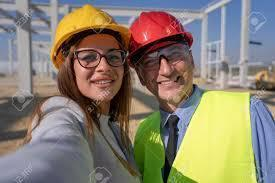helmet: (50, 3, 132, 58), (125, 11, 193, 62)
